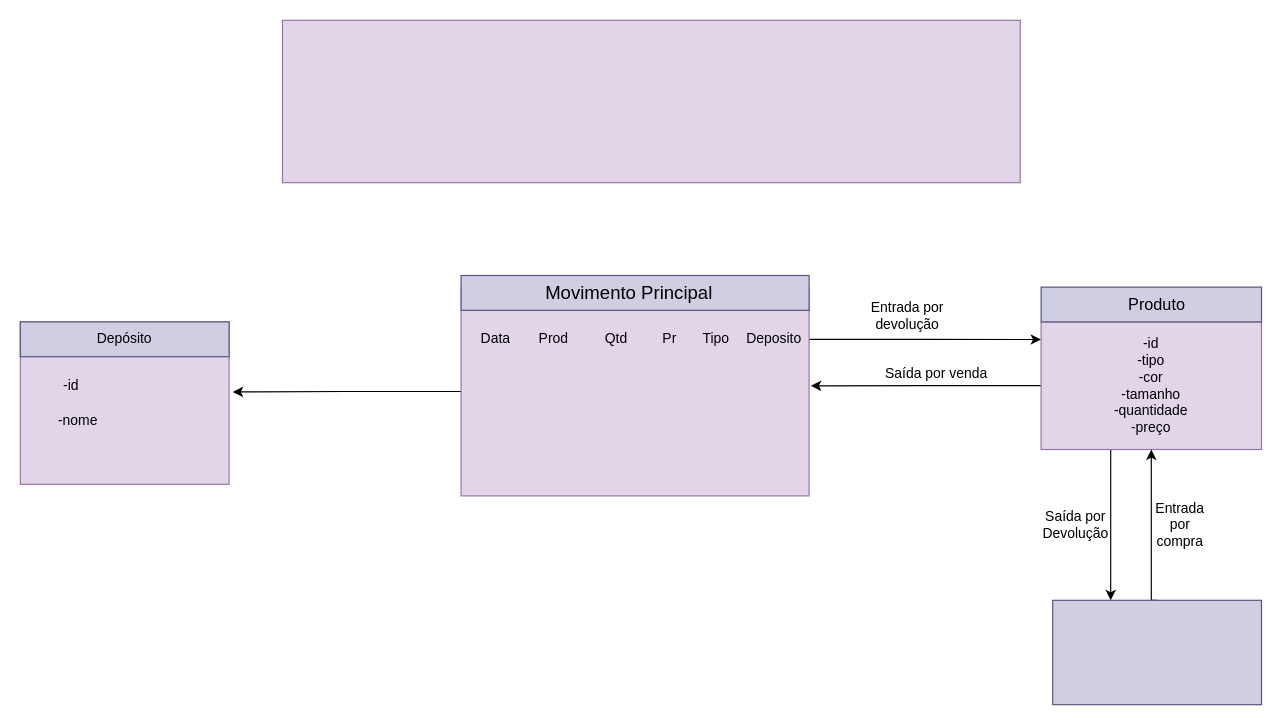
Image size: 1282x725. Some labels were removed from this diagram. Each missing label, with the centre of its shape:
"D IAGRAMA DE DEPÓSITO DE ROUPA" goes at point (650, 101).
"Fornecedor" goes at point (1157, 652).
